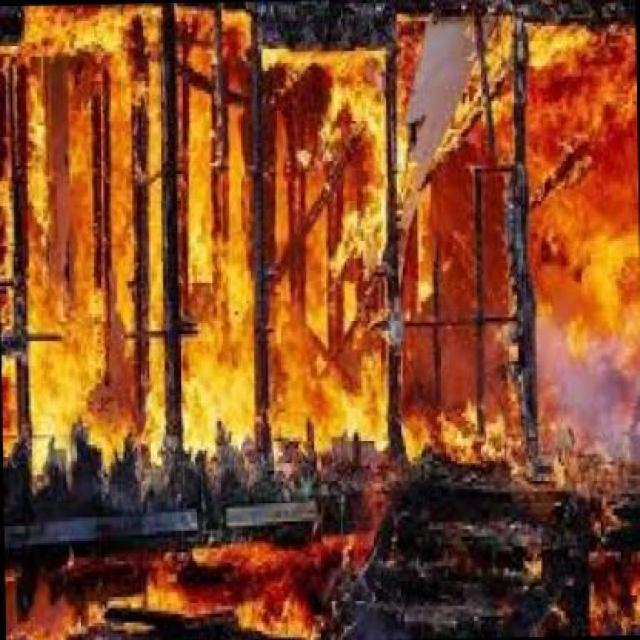Fire: (0, 4, 640, 474), (9, 508, 372, 640), (586, 554, 640, 640), (590, 472, 612, 549)
